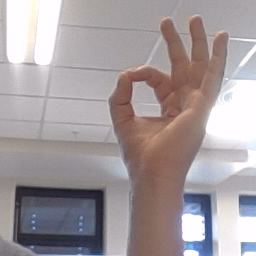O: (107, 13, 232, 176)
